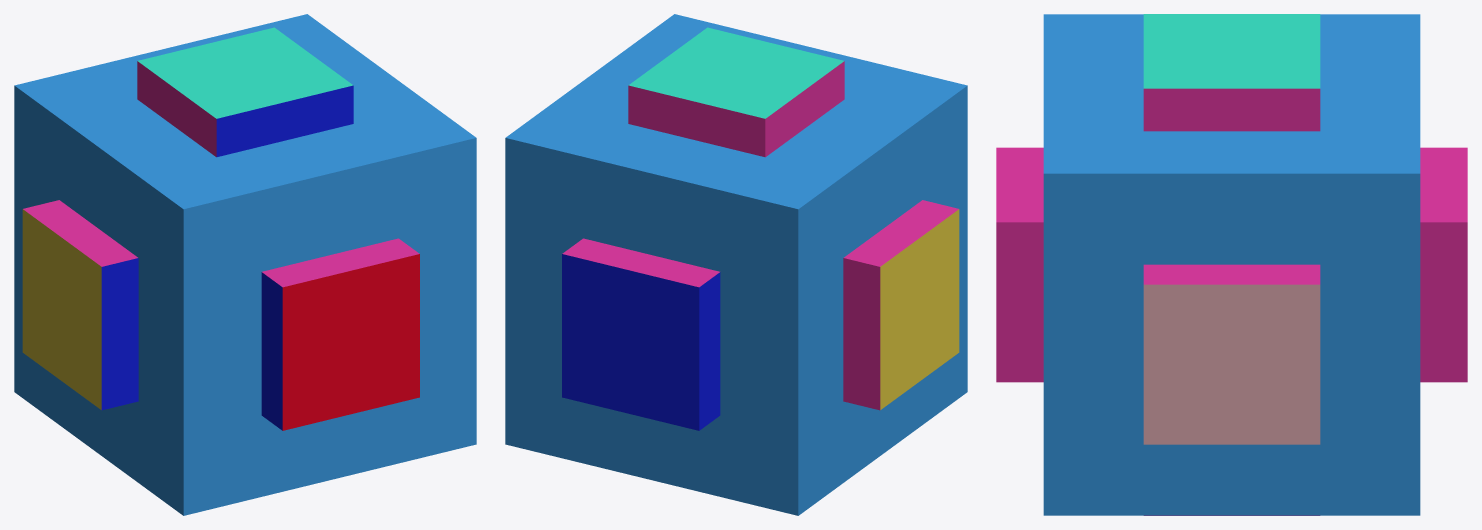
The model's file is cube-bmc-test4.glb.
The picture shows the model from 3 angles, left to right: view 1: azimuth 30°, elevation 25°; view 2: azimuth 150°, elevation 25°; view 3: azimuth 270°, elevation 25°; orthographic projection. The views are drawn at different scales.
Parts seen in each view (by area): view 1: Cube, Cube.002, Cube.003; view 2: Cube, Cube.002, Cube.003; view 3: Cube, Cube.002, Cube.003.
Boxes of the visible parts, x1,y1,x2,y2 form: Cube: (14, 14, 476, 515); Cube.002: (22, 200, 419, 430); Cube.003: (137, 27, 353, 157); Cube: (505, 14, 967, 515); Cube.002: (562, 200, 959, 430); Cube.003: (628, 27, 844, 157); Cube: (1043, 14, 1420, 515); Cube.002: (996, 147, 1467, 444); Cube.003: (1143, 14, 1320, 515).
Size of the model in its own units: 2.5 by 2.5 by 2.5.
